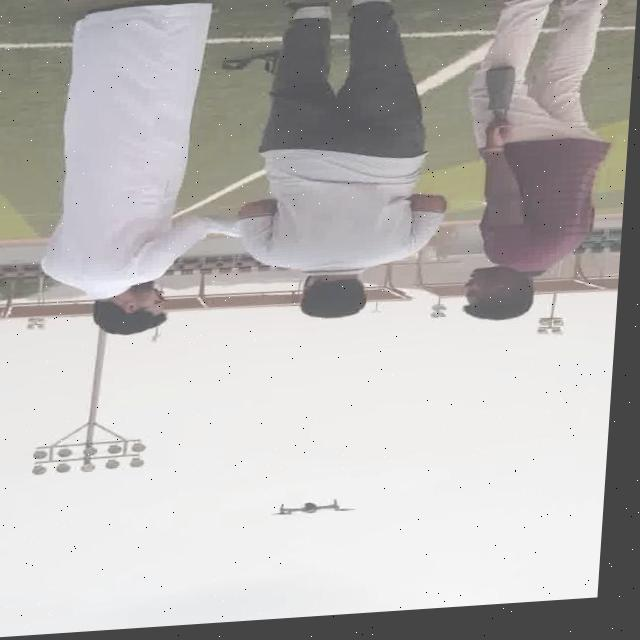drone: (272, 499, 364, 529)
